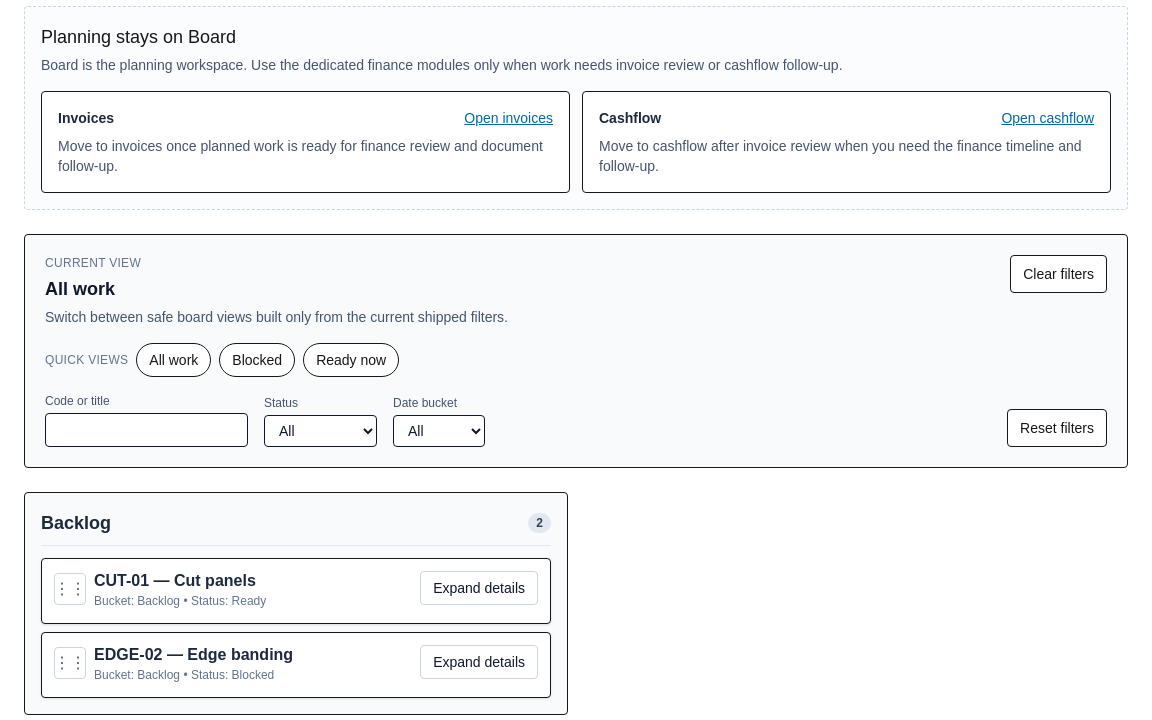
extracted shared workspace harness › shows current view presets and applies the blocked quick view using existing filters only
(page scrolled)
Expected: the text "Current view" is shown, [45,256,141,270]
Expected: the text "All work" is shown, [45,279,115,299]
Click the button "Blocked": click(257, 360) [219,343,295,377]
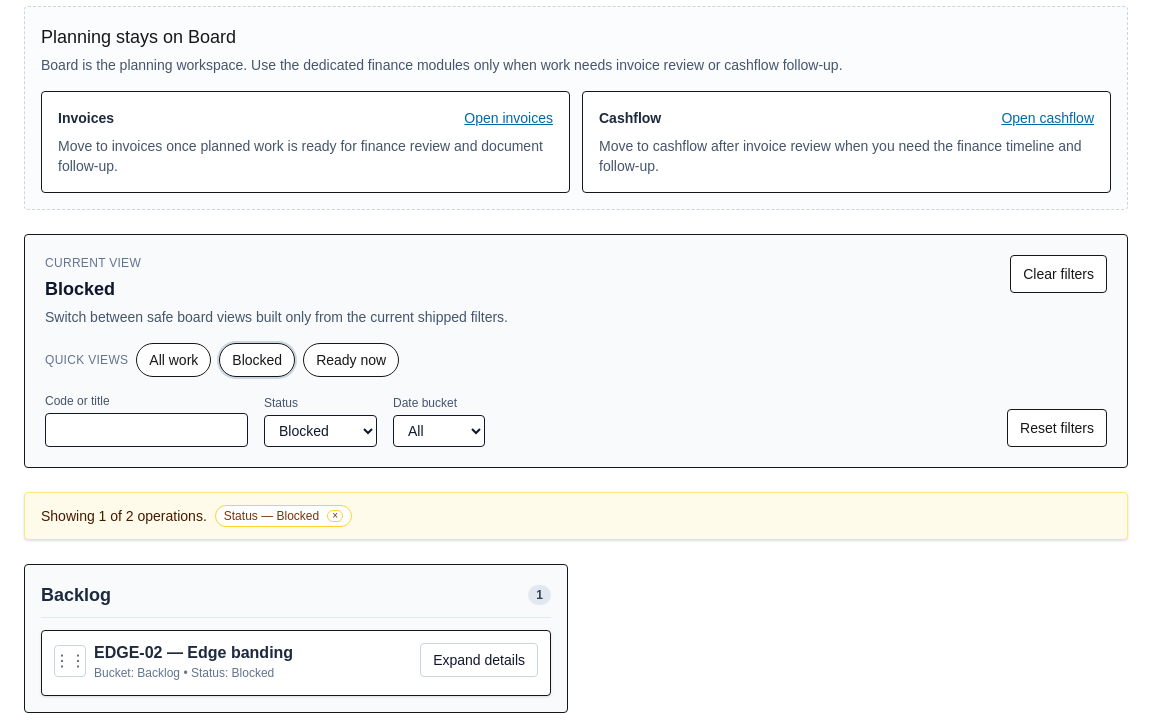
Expected: the text "EDGE-02 — Edge banding" is shown, [94,643,293,663]
Expected: the text "Status — Blocked" is shown, [224,508,319,524]
Expected: the text "CUT-01 — Cut panels" is gone
